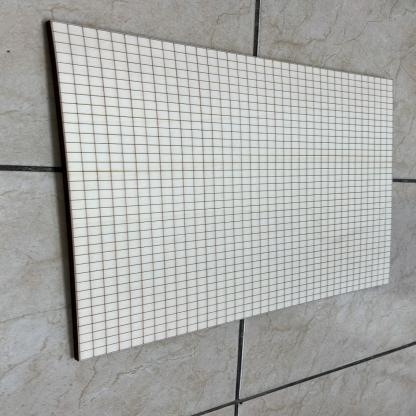grid: (28, 17, 406, 372)
